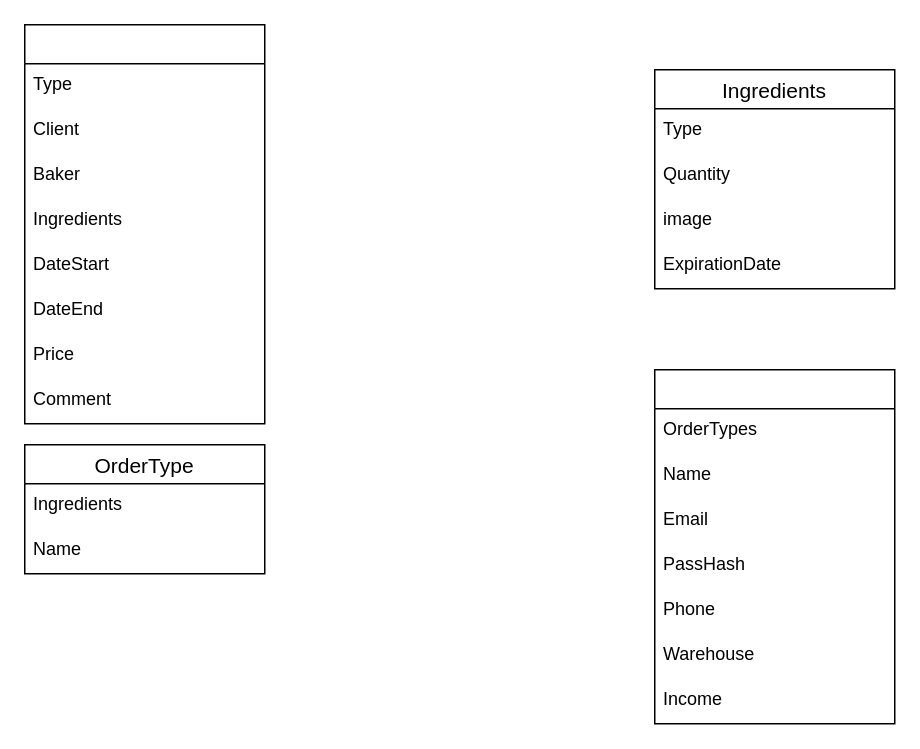
This 920x749 diagram has some shape labels left out. The box of each missing label's shape, as (x1, y1, x2, y2) in pixels:
Order: (23, 23, 265, 424)
User: (653, 368, 895, 724)
